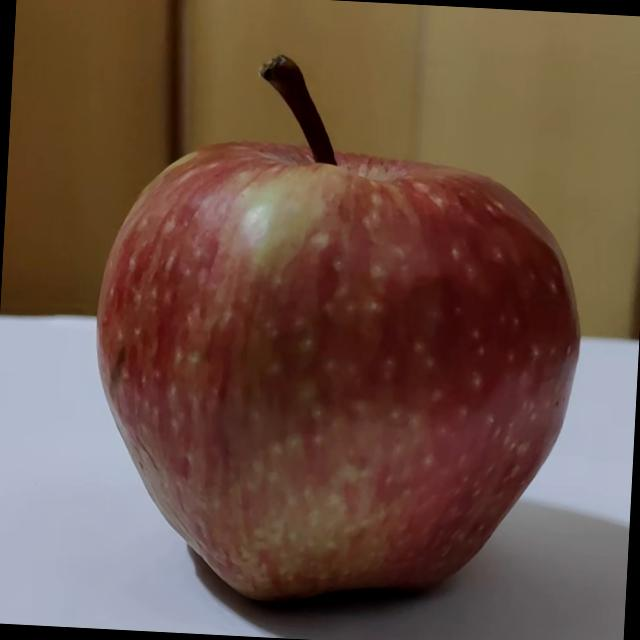apple: (81, 48, 602, 628)
